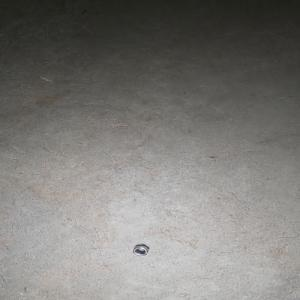Nut: (131, 243, 148, 255)
